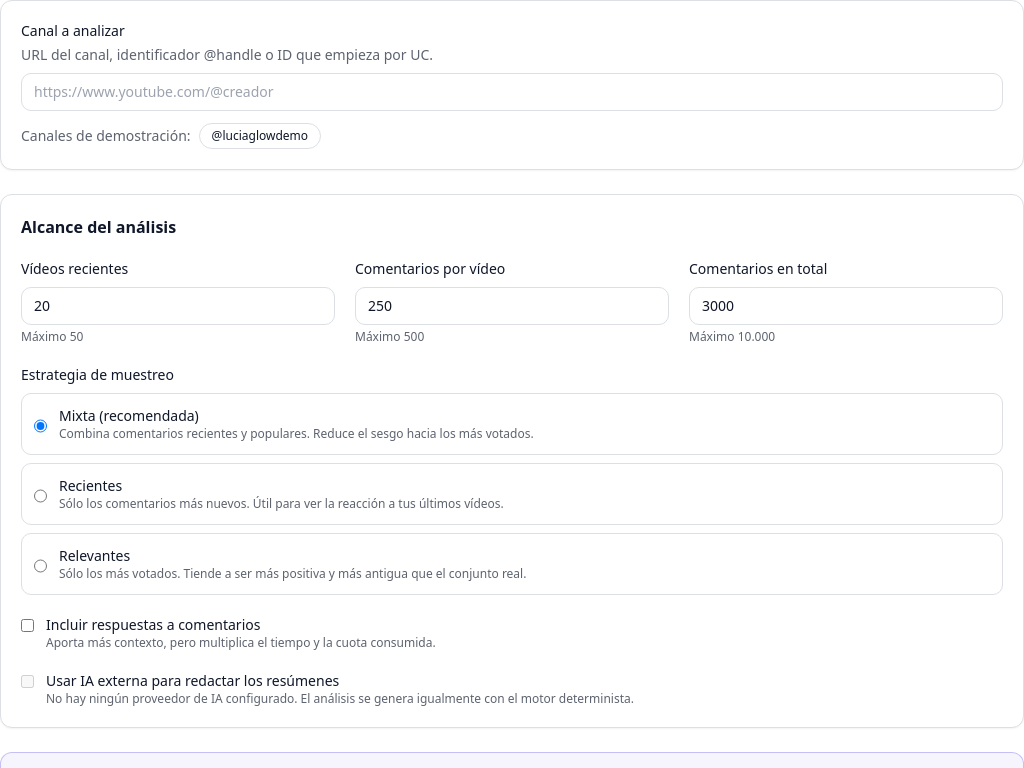
it: Formulario de análisis › identifica los canales de demostración y muestra su etiqueta
The image size is (1024, 768).
Click the button "@luciaglowdemo": {"x": 260, "y": 136} [199, 123, 321, 149]
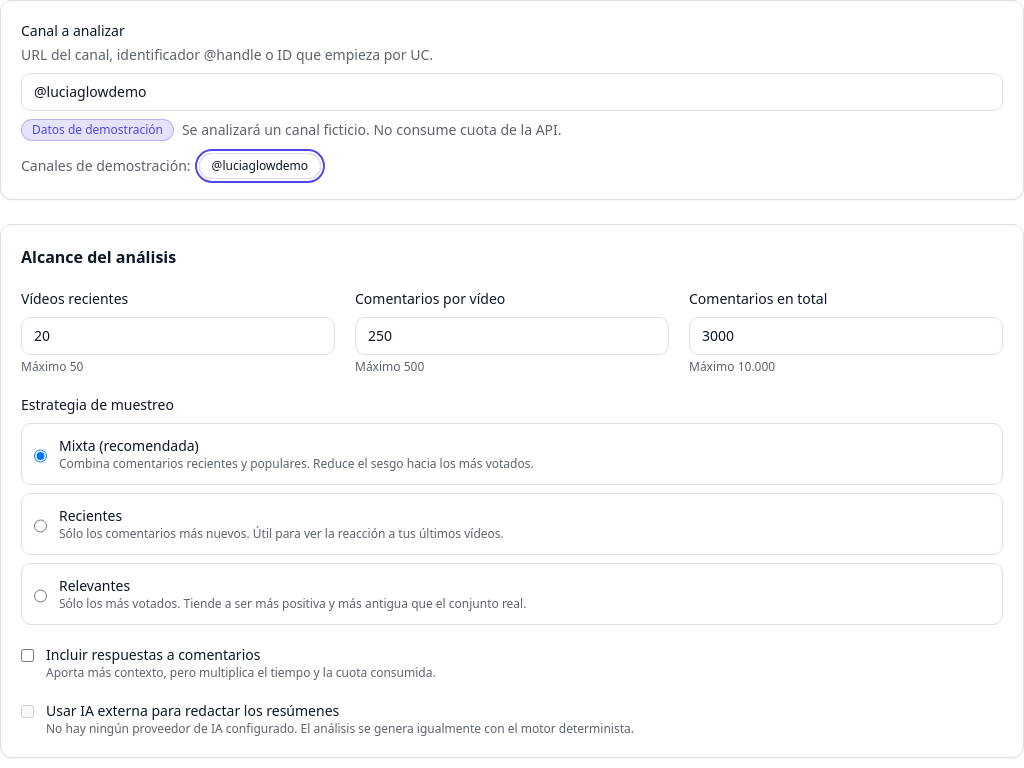
expect the text "Datos de demostración" is shown: met, box [21, 119, 174, 141]
expect the text "Se analizará un canal ficticio. No consume cuota de la API." is shown: met, box [182, 120, 562, 140]
